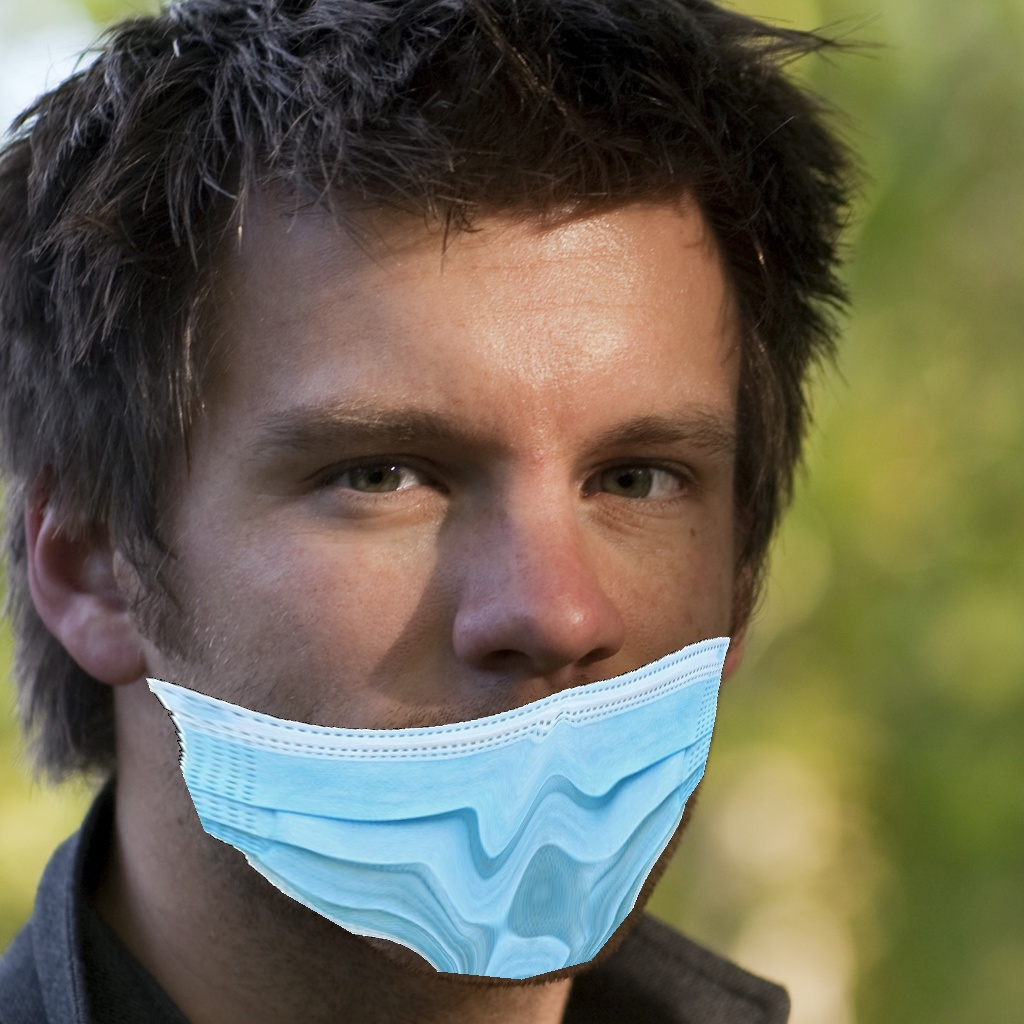mask_weared_incorrect: (134, 368, 816, 997)
